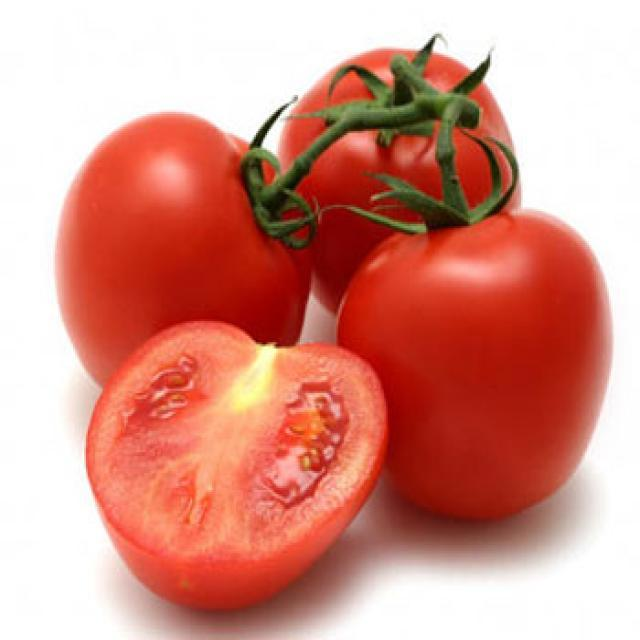kirmizi: (54, 44, 614, 584)
